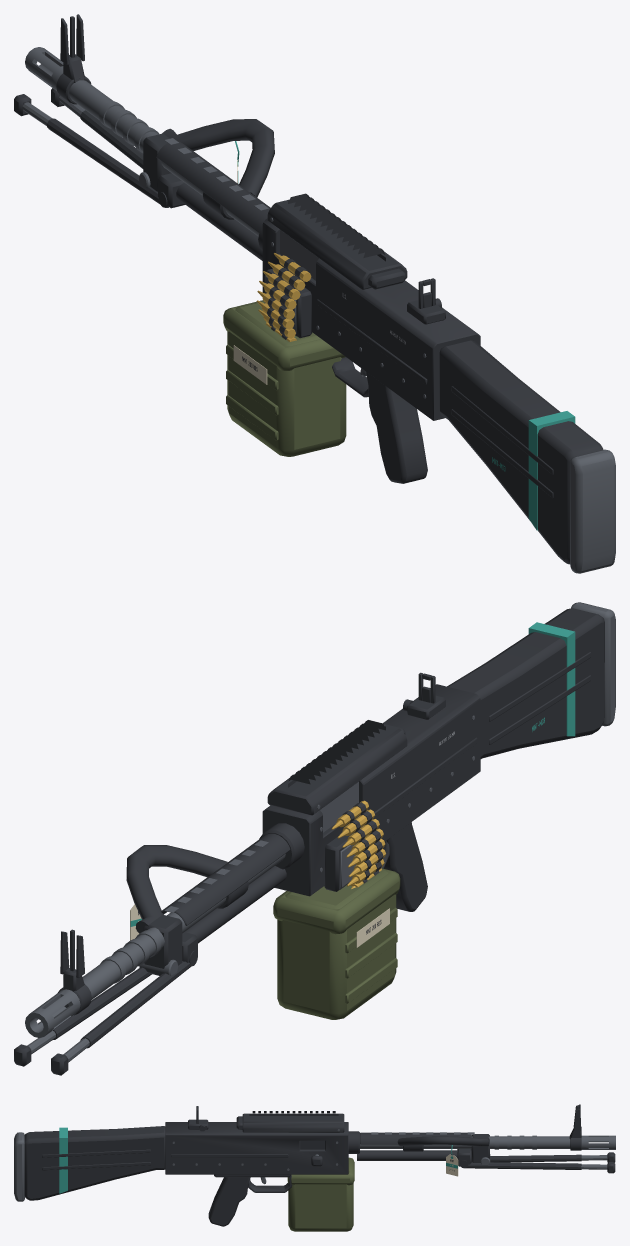
3 renders of one model, top to bottom at view 1: azimuth 30°, elevation 25°; view 2: azimuth 150°, elevation 25°; view 3: azimuth 270°, elevation 25°, orthographic. The views are drawn at different scales.
Visible parts, largest first — view 1: body, mag, cover, belt, bipod_L, bipod_R, body_fine; view 2: body, mag, cover, belt, bipod_L, bipod_R, body_fine; view 3: body, mag, cover, bipod_R, bipod_L, body_fine.
Boxes of the visible parts, bbox=[...] form: body: bbox=[25, 14, 615, 573]; mag: bbox=[223, 300, 346, 456]; cover: bbox=[267, 193, 407, 289]; belt: bbox=[256, 253, 311, 341]; bipod_L: bbox=[14, 94, 168, 207]; bipod_R: bbox=[51, 88, 143, 168]; body_fine: bbox=[164, 138, 505, 471]; body: bbox=[25, 602, 615, 1037]; mag: bbox=[273, 868, 400, 1019]; cover: bbox=[267, 720, 407, 815]; belt: bbox=[331, 800, 385, 888]; bipod_L: bbox=[51, 950, 197, 1075]; bipod_R: bbox=[14, 967, 151, 1066]; body_fine: bbox=[130, 715, 544, 931]; body: bbox=[14, 1104, 615, 1226]; mag: bbox=[287, 1157, 354, 1231]; cover: bbox=[236, 1111, 344, 1132]; bipod_R: bbox=[460, 1160, 615, 1173]; bipod_L: bbox=[490, 1152, 615, 1162]; body_fine: bbox=[172, 1132, 474, 1171].
Bounding box in the file's own units: 0.1395 × 0.243 × 1.05.
